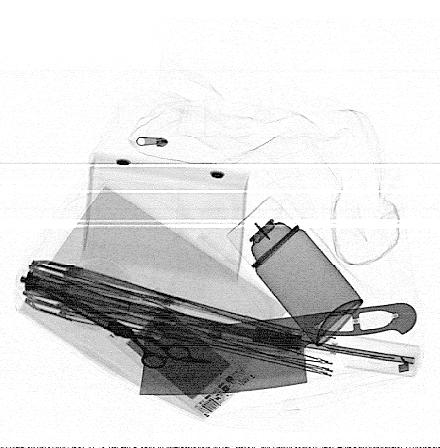Knife: (138, 304, 417, 396)
Powerbank: (108, 286, 256, 420)
Scissors: (40, 284, 218, 371)
Sprayer: (226, 194, 363, 348)
